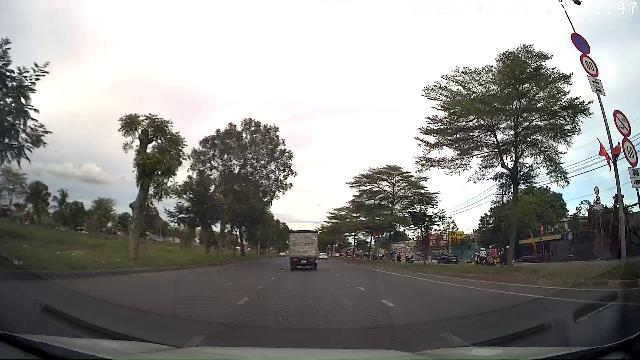127-toc-do-toi-da-60: (622, 137, 638, 167)
127-toc-do-toi-da-80: (580, 54, 598, 76)
130-cam-dung-va-do-xe: (571, 33, 591, 54)
